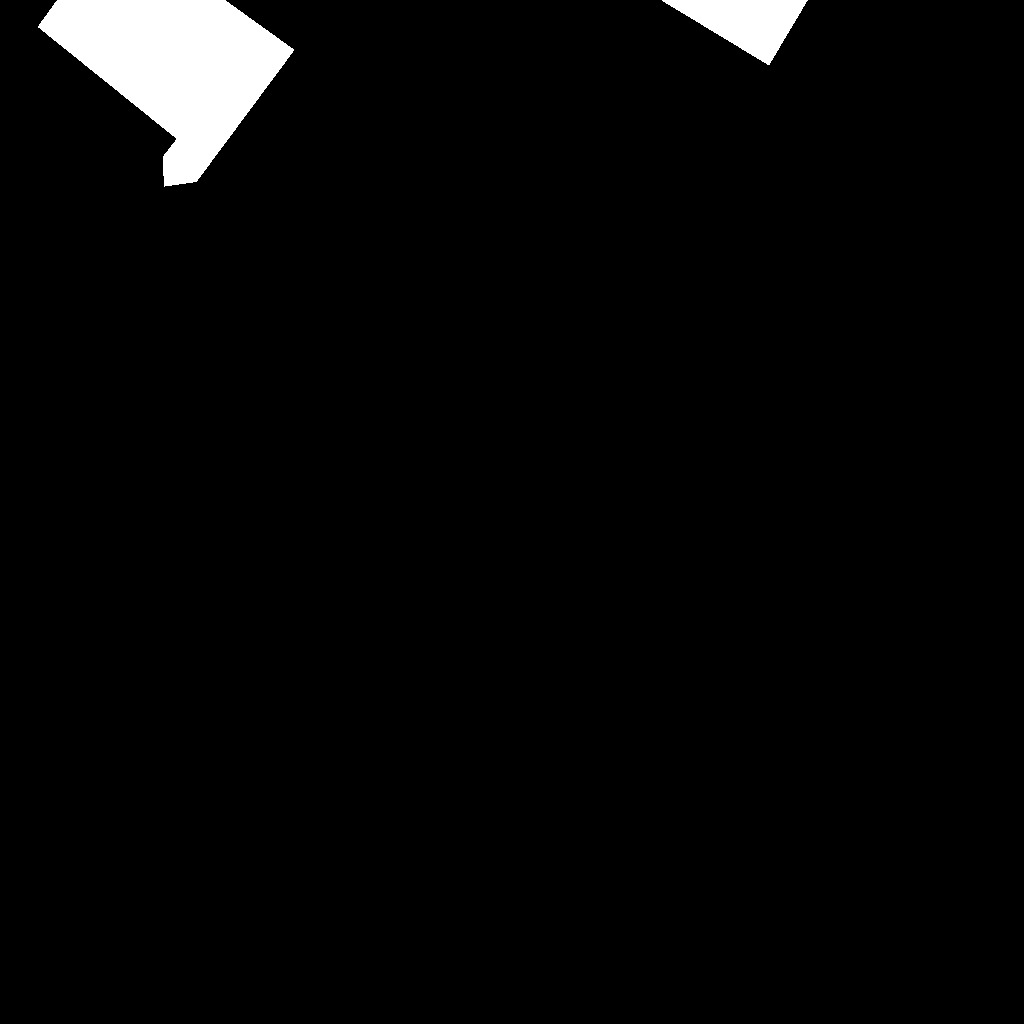building: (38, 0, 295, 187), (661, 0, 809, 66)
